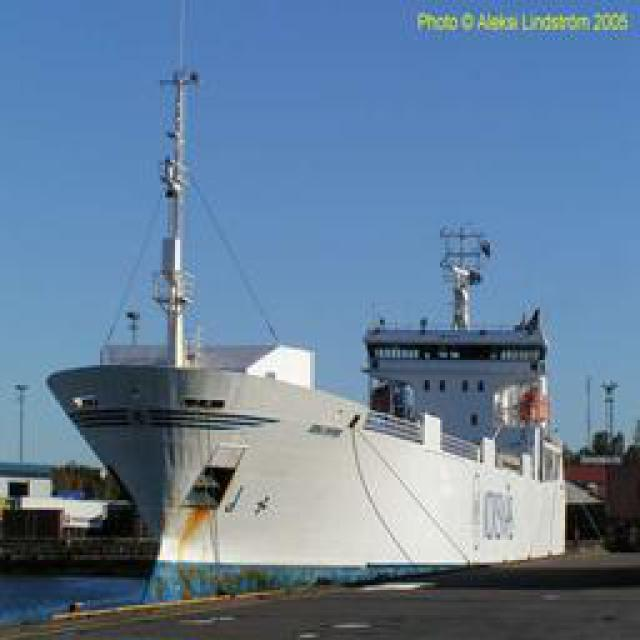Ship: (50, 56, 590, 591)
